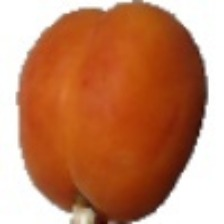apricot: (41, 23, 199, 222)
